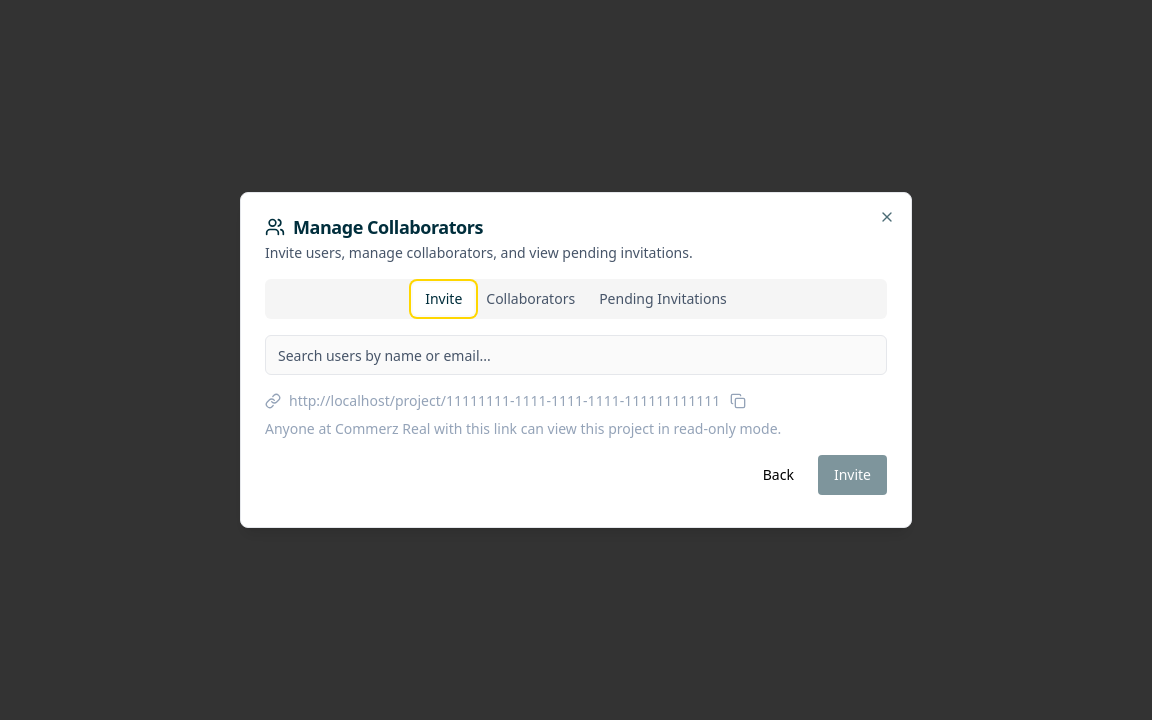
Test: UI-COLLAB.03: Collaborators tab — remove and transfer › shows collaborator list with owner badge
Click the tab with test id "tab-collaborators". click: point(531, 299)
box: [474,283,587,315]
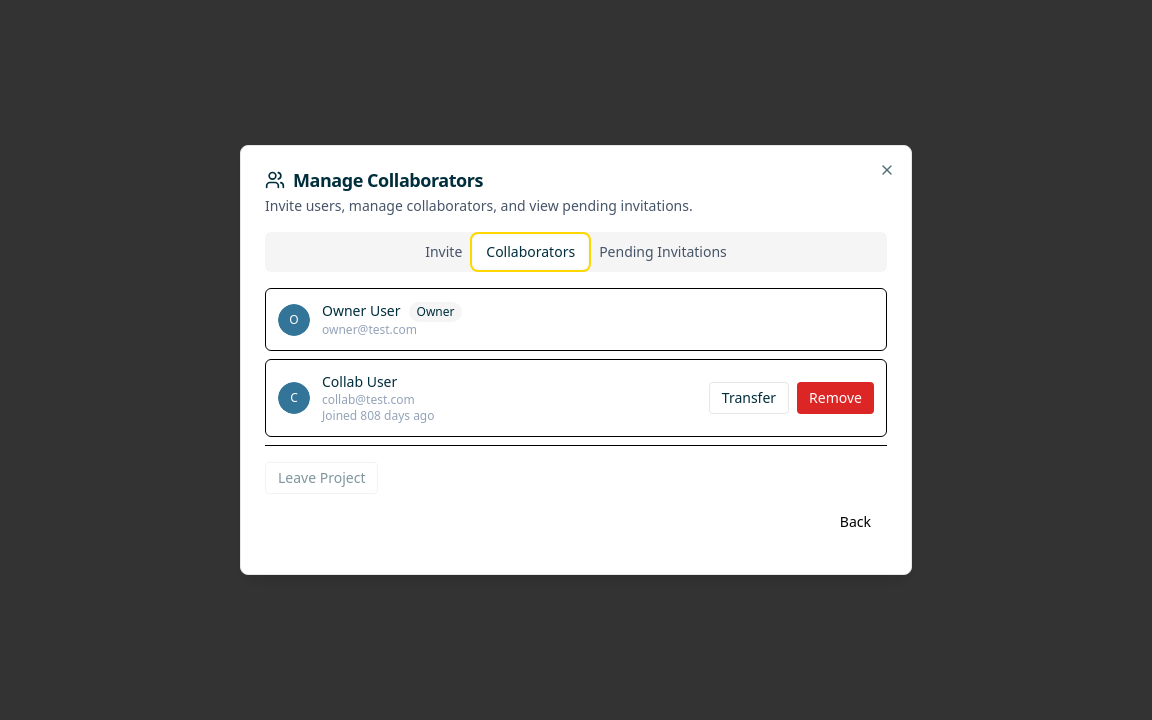
expect the element with test id "collaborators-tab" is shown: met, box [265,280,887,550]
expect the text "Owner User" is shown: met, box [322,301,400,320]
expect the text "Collab User" is shown: met, box [322,372,397,391]
